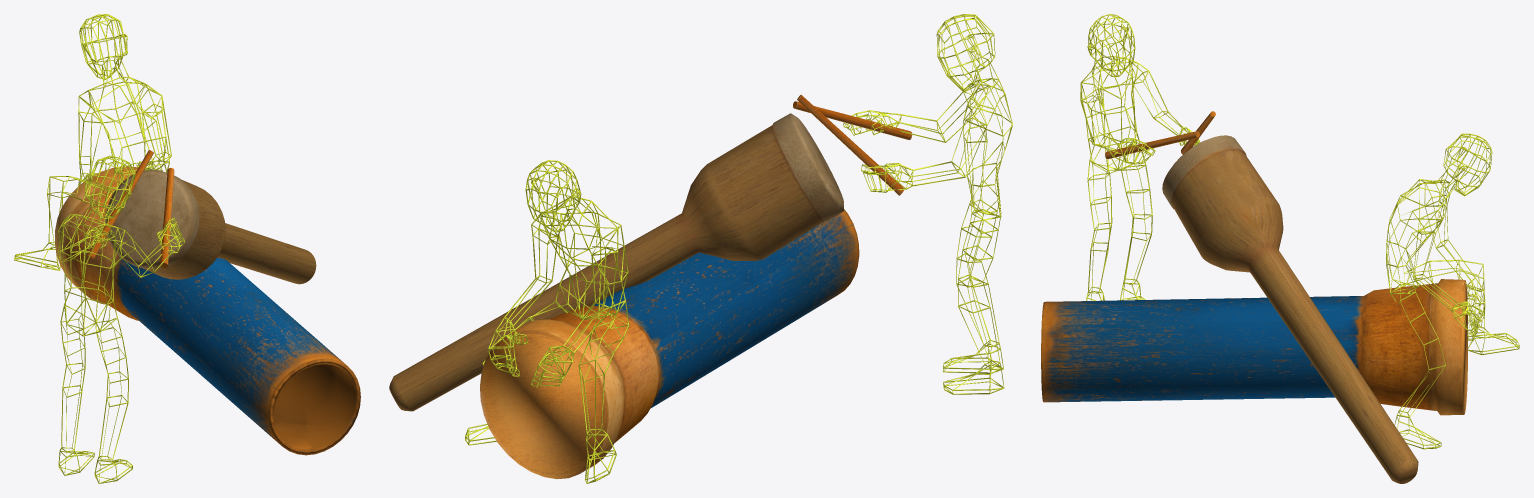
Rendered from umbigada.glb.
The picture shows the model from 3 angles, left to right: view 1: azimuth 30°, elevation 25°; view 2: azimuth 150°, elevation 25°; view 3: azimuth 270°, elevation 25°; orthographic projection. The views are drawn at different scales.
Parts seen in each view (by area): view 1: Cylinder.004, Cylinder.006, Cube.001, Cube, Cylinder.005, Cylinder.003; view 2: Cylinder.004, Cylinder.006, Cube, Cube.001, Cylinder.003, Cylinder.005; view 3: Cylinder.004, Cylinder.006, Cube, Cube.001, Cylinder.005.
Part boxes in pixels (x1,y1,x2,y2): Cylinder.004: [55, 166, 360, 455]; Cylinder.006: [105, 170, 316, 284]; Cube.001: [58, 155, 184, 483]; Cube: [14, 14, 171, 270]; Cylinder.005: [160, 167, 174, 268]; Cylinder.003: [87, 150, 153, 258]; Cylinder.004: [480, 209, 859, 479]; Cylinder.006: [389, 113, 843, 411]; Cube: [465, 160, 629, 483]; Cube.001: [843, 14, 1012, 394]; Cylinder.003: [797, 94, 904, 195]; Cylinder.005: [793, 101, 912, 139]; Cylinder.004: [1041, 279, 1467, 415]; Cylinder.006: [1162, 135, 1418, 483]; Cube: [1386, 133, 1519, 449]; Cube.001: [1080, 14, 1200, 300]; Cylinder.005: [1105, 131, 1199, 159].
Size of the model in its own units: 6.33 by 4.85 by 6.89.
5 materials, 4 textured.
